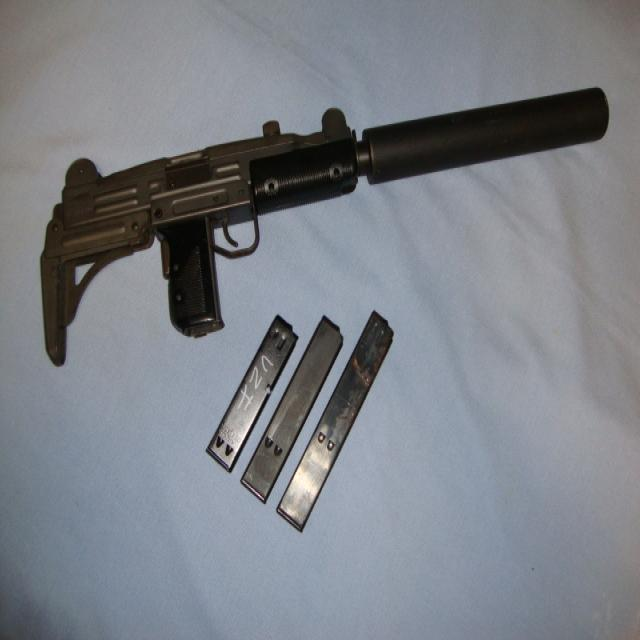SMG: (39, 88, 611, 367)
